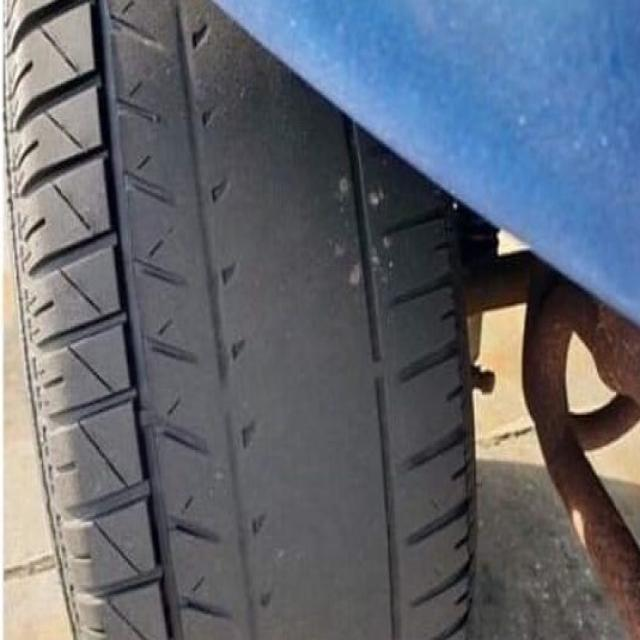Flat spots: (196, 115, 379, 639)
Non-defective: (17, 0, 188, 636)
